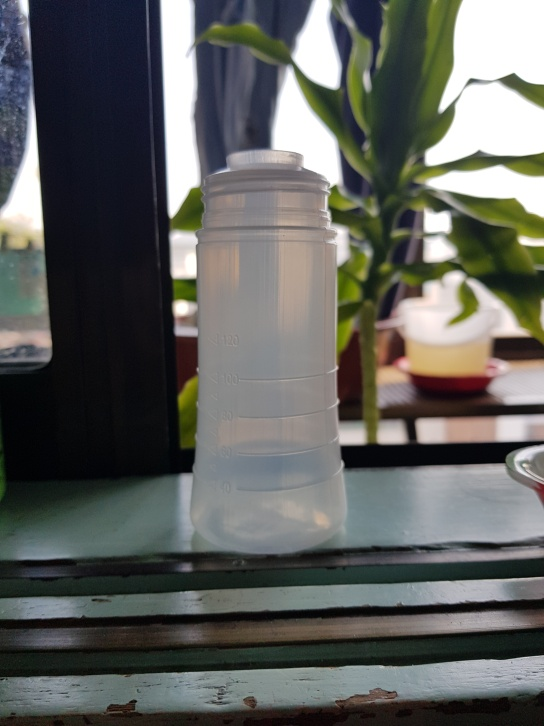Plastic: (185, 146, 353, 562)
